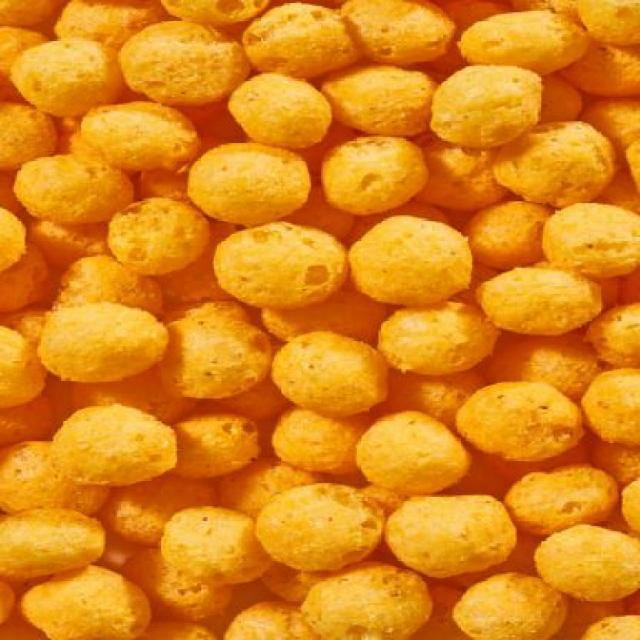Chips packaged: (438, 370, 580, 468), (378, 490, 524, 578), (248, 482, 394, 570), (207, 220, 356, 306), (344, 408, 478, 494), (352, 216, 476, 302), (273, 328, 381, 419)
